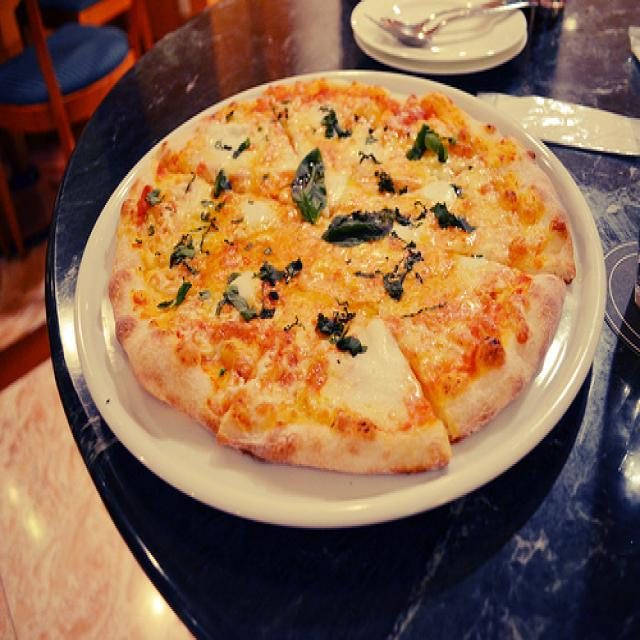Wet Waste: (101, 70, 580, 496)
